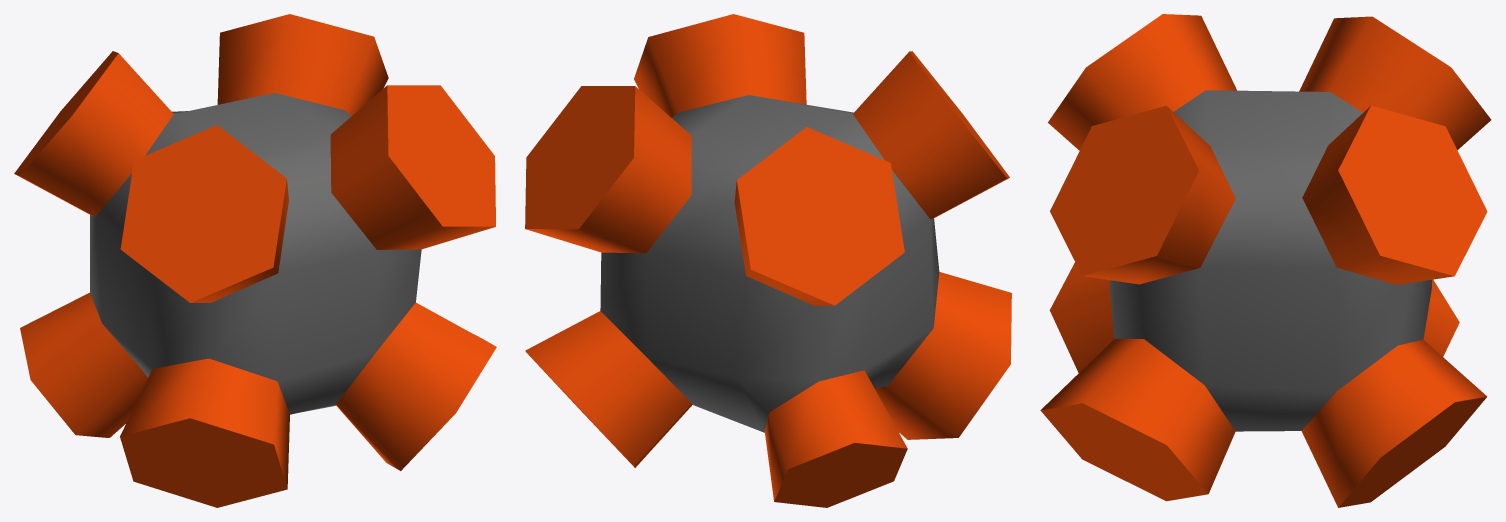
Rendered from mine_for_test.fbx.
3 renders of one model, left to right at view 1: azimuth 30°, elevation 25°; view 2: azimuth 150°, elevation 25°; view 3: azimuth 270°, elevation 25°, orthographic. The views are drawn at different scales.
Parts seen in each view (by area): view 1: pCube10; view 2: pCube10; view 3: pCube10.
Boxes of the visible parts, box(x1,y1,x2,y2) form: pCube10: box(14, 14, 496, 507); pCube10: box(525, 14, 1011, 507); pCube10: box(1040, 14, 1491, 507).
Bounding box in the file's own units: 43.67 × 42.82 × 43.48.
